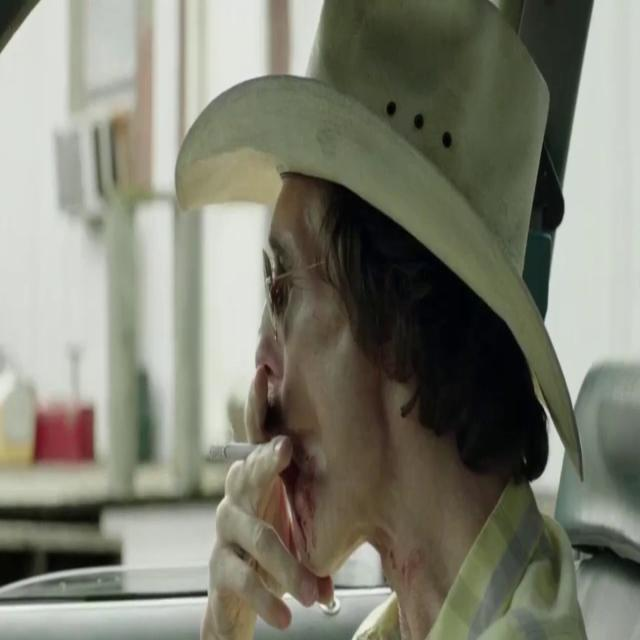Smooking: (205, 437, 271, 469)
